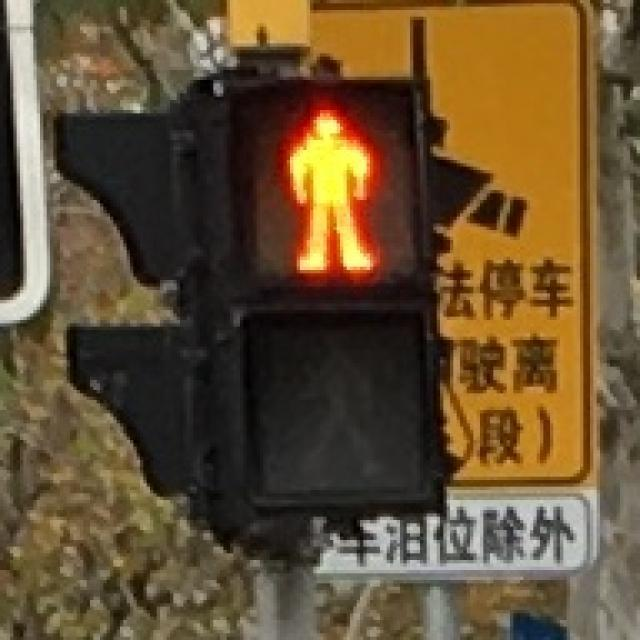red-crossing: (244, 86, 404, 286)
